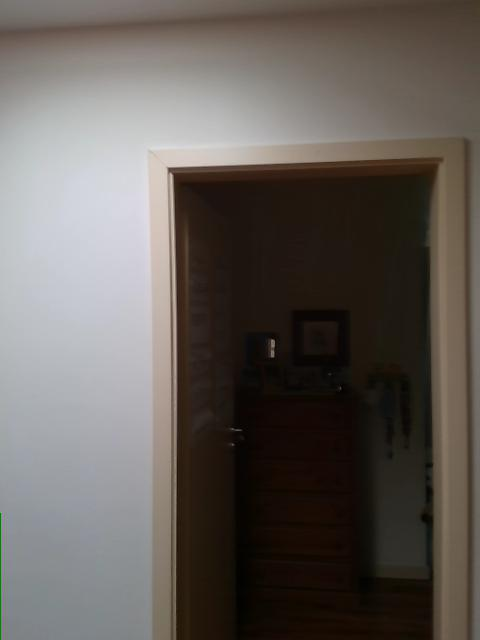open_door: (160, 151, 447, 639)
